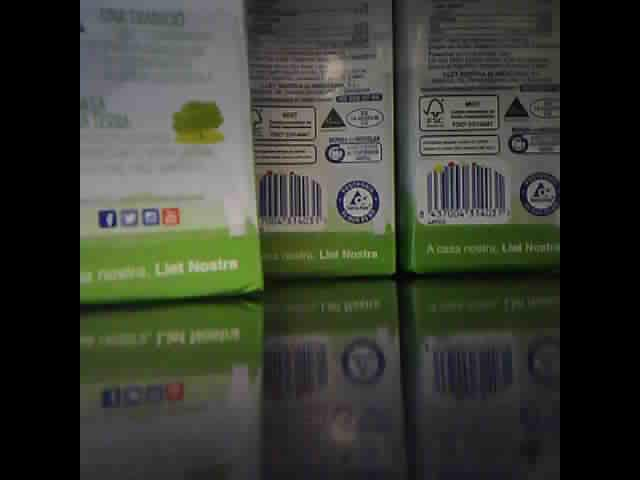leche: (82, 2, 261, 303), (396, 8, 559, 271), (250, 5, 393, 276)
